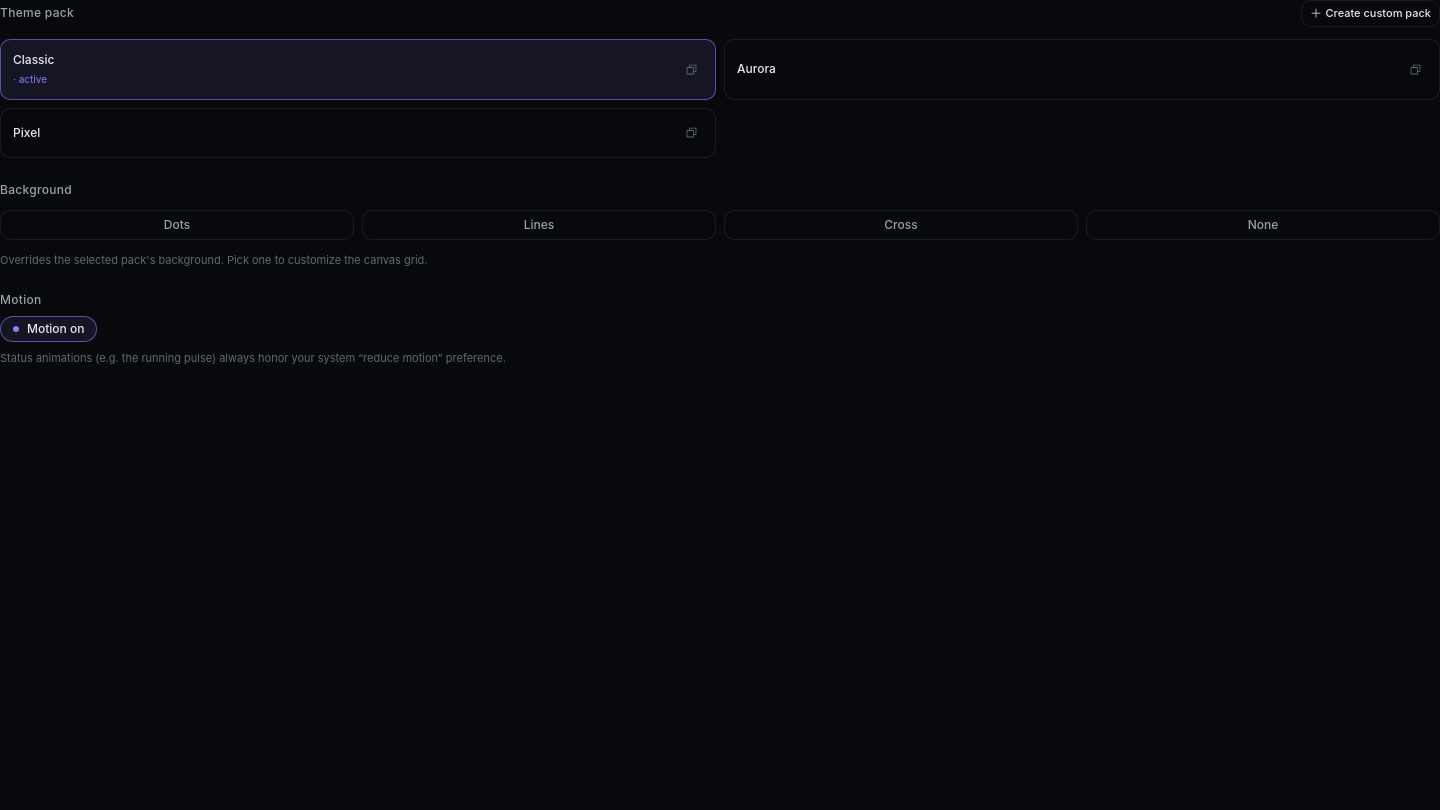
Test case: AppearanceSettings › customizes a built-in pack (forks into the create builder)
Click the button named "Customize Classic": {"x": 691, "y": 69} [679,57,703,81]
(page scrolled)
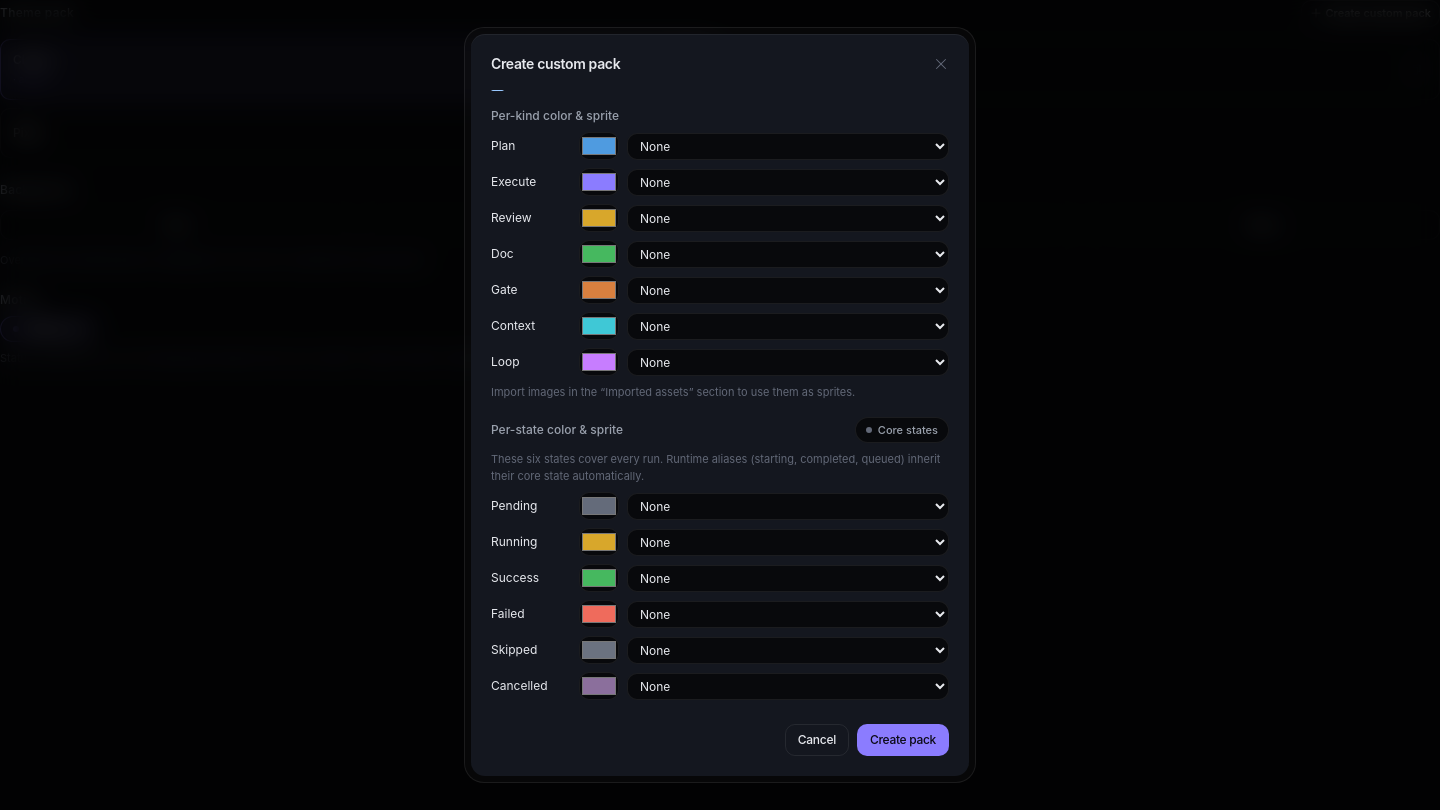
Check: the button "Create pack" is shown, box [857,724,949,756]
